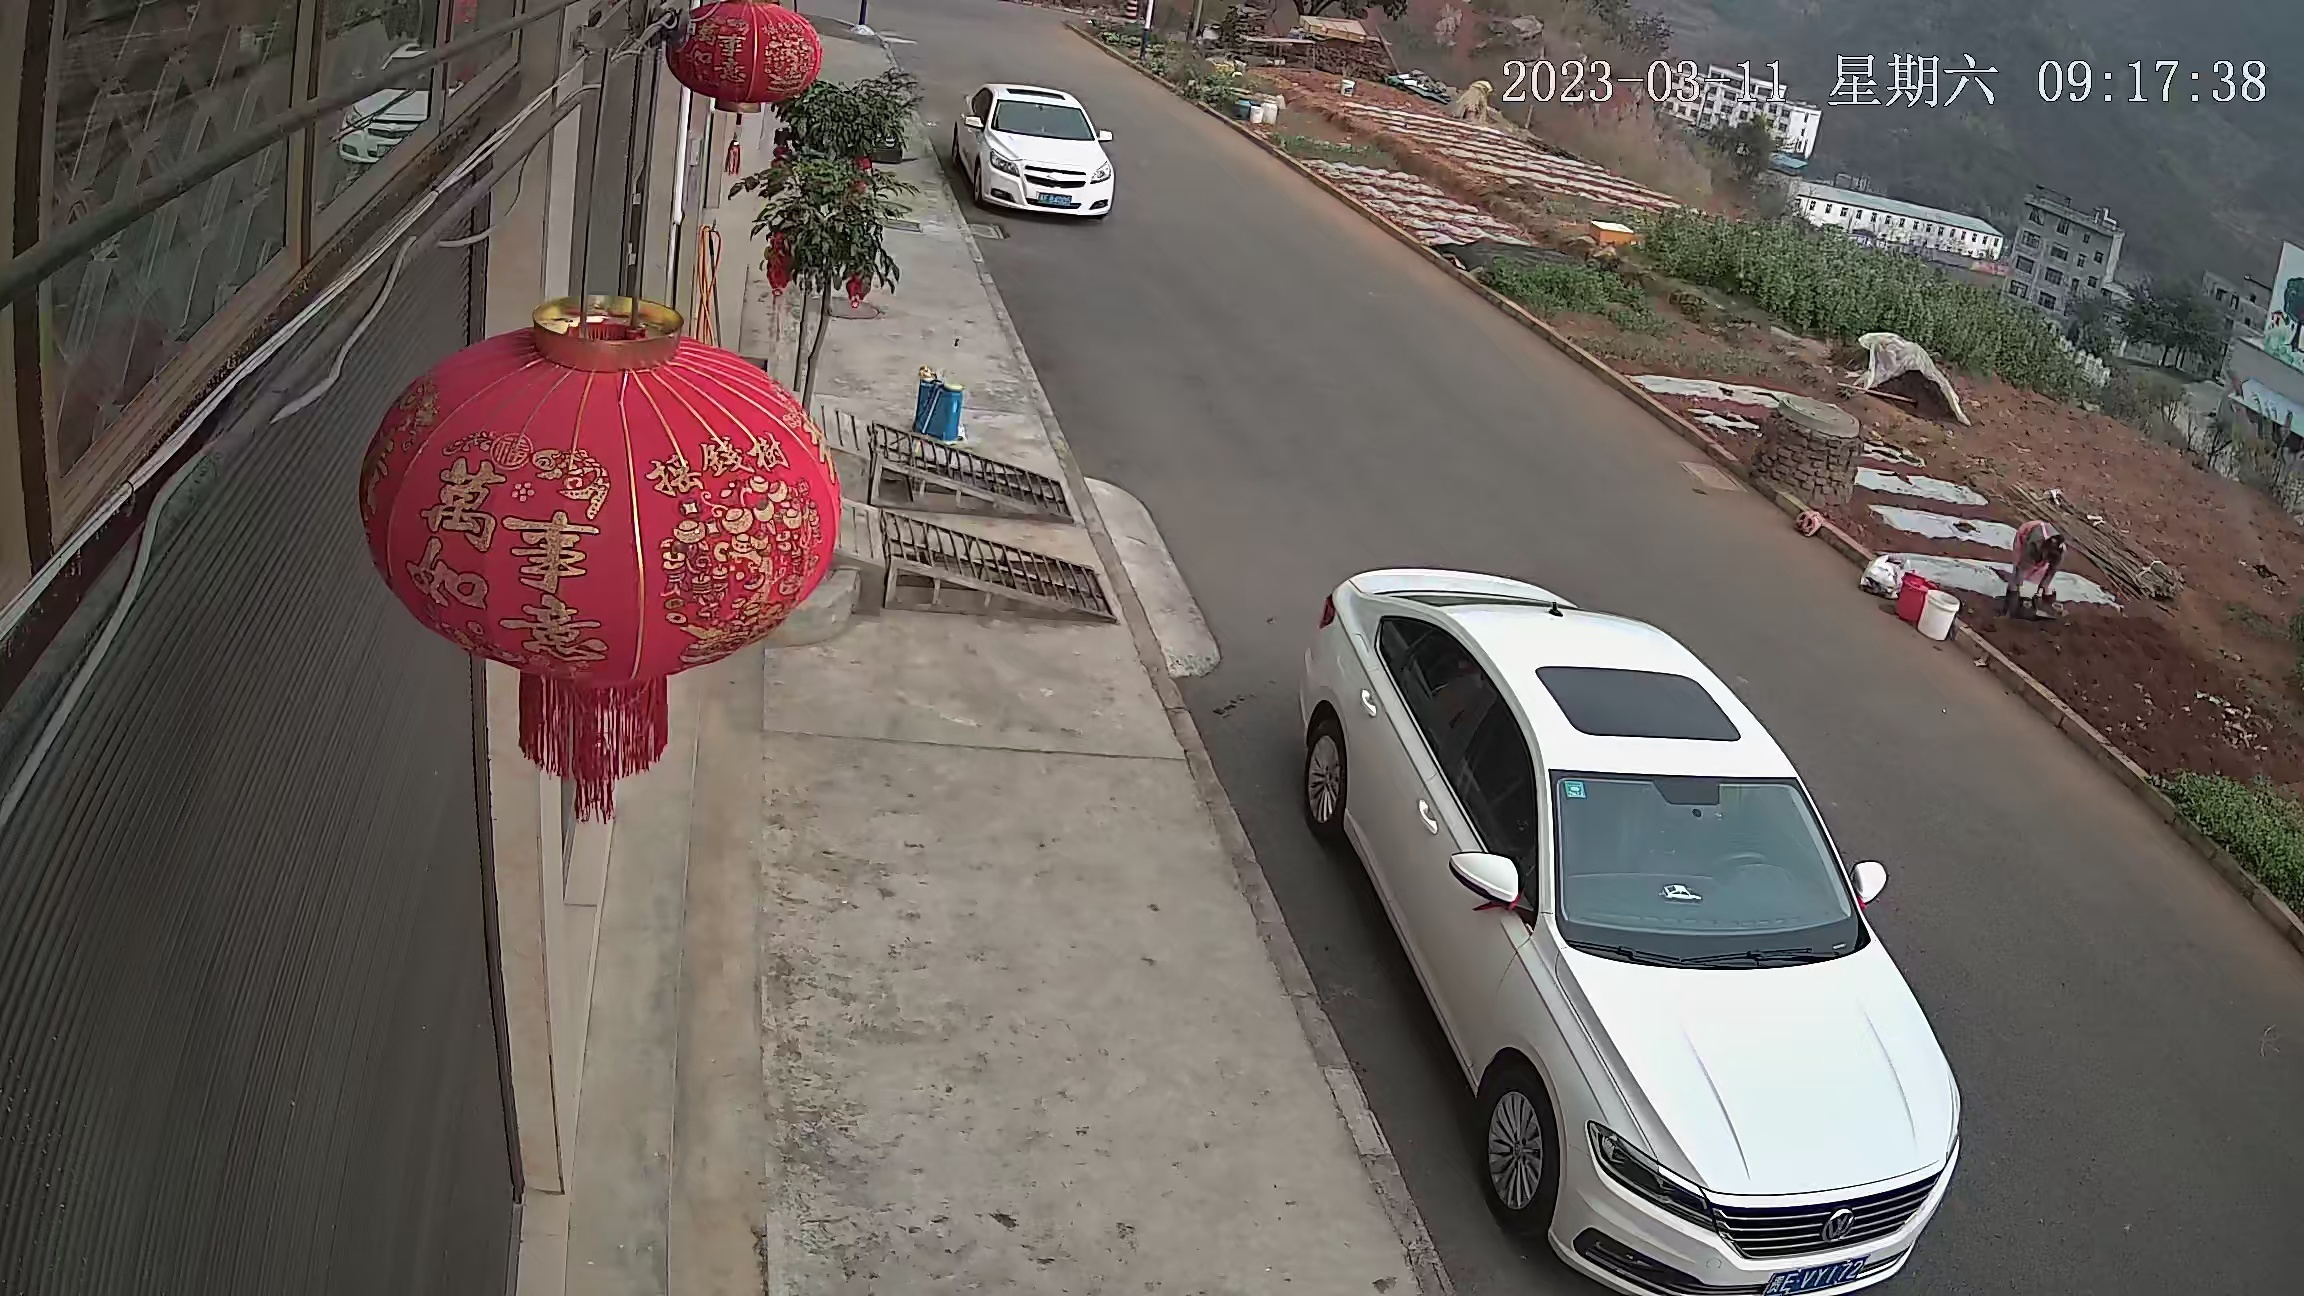person: (2011, 515, 2063, 626)
sedan: (1285, 559, 1974, 1294), (946, 76, 1124, 226)
